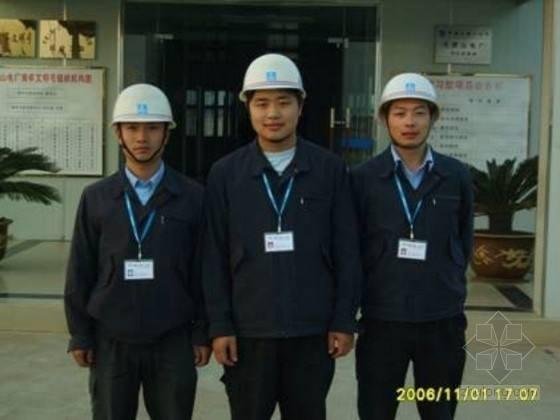helmet: (237, 47, 309, 144), (110, 80, 179, 166), (376, 69, 444, 151)
not_reflective: (203, 143, 369, 339), (63, 171, 210, 338), (353, 149, 479, 325)
